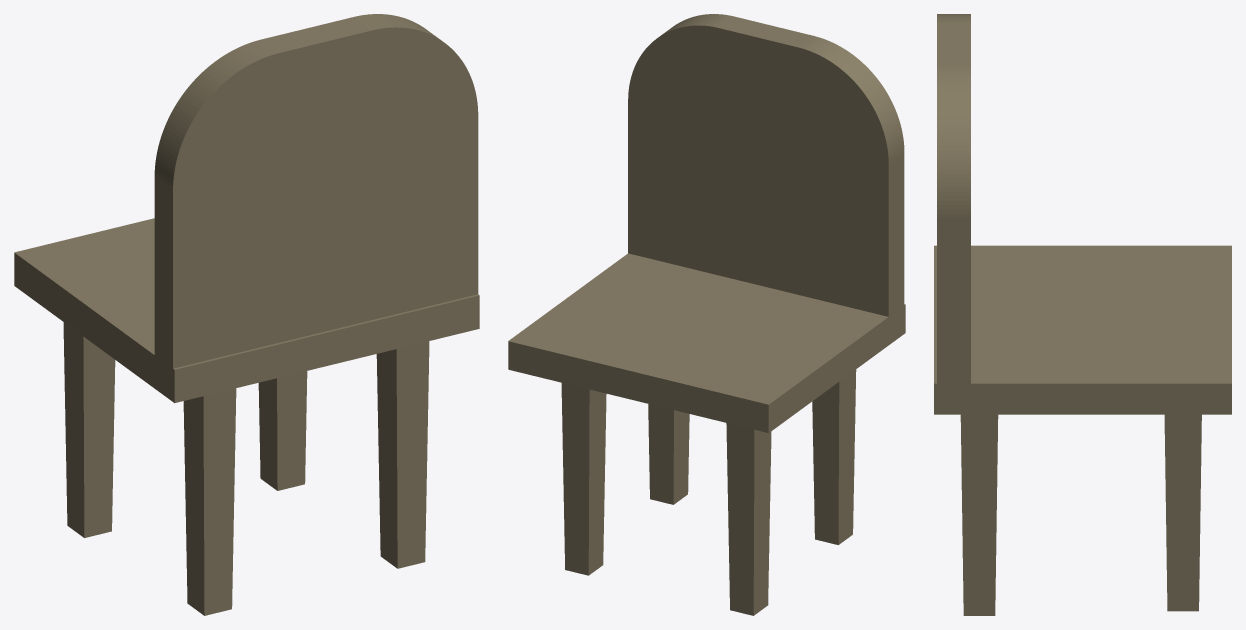
The model's file is chair.fbx.
3 views of the same model, side by side, from view 1: azimuth 30°, elevation 25°; view 2: azimuth 150°, elevation 25°; view 3: azimuth 270°, elevation 25° (orthographic). The views are drawn at different scales.
Visible parts, largest first — view 1: Cube.015, Cube.014, Cube.011, Cube.012, Cube.013, Cube.010; view 2: Cube.015, Cube.014, Cube.013, Cube.010, Cube.012, Cube.011; view 3: Cube.014, Cube.015, Cube.011, Cube.010.
Boxes of the visible parts, x1,y1,x2,y2 form: Cube.015: (154, 14, 478, 368); Cube.014: (14, 218, 479, 403); Cube.011: (376, 341, 429, 568); Cube.012: (183, 388, 236, 615); Cube.013: (63, 322, 115, 537); Cube.010: (258, 371, 307, 490); Cube.015: (628, 14, 904, 317); Cube.014: (508, 253, 905, 433); Cube.013: (726, 423, 771, 615); Cube.010: (561, 383, 606, 575); Cube.012: (812, 369, 856, 544); Cube.011: (648, 404, 689, 504); Cube.014: (934, 245, 1231, 414); Cube.015: (937, 14, 970, 383); Cube.011: (960, 414, 998, 615); Cube.010: (1164, 414, 1201, 611).
Size of the model in its own units: 61.73 by 108 by 56.2.
